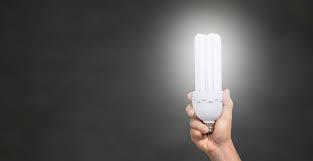Lamp: (188, 29, 229, 137)
